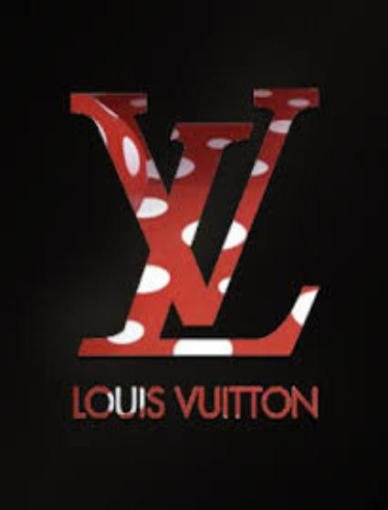LOUIS-VUITTON: (57, 73, 332, 361), (62, 380, 328, 436)
